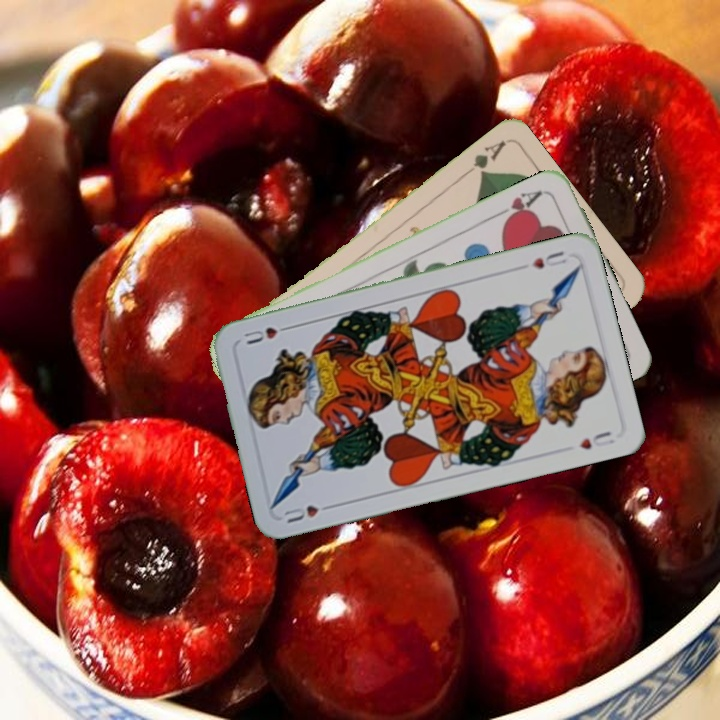GA: (458, 136, 508, 179)
HA: (492, 186, 547, 227)
HU: (280, 498, 337, 526), (528, 247, 570, 272)
